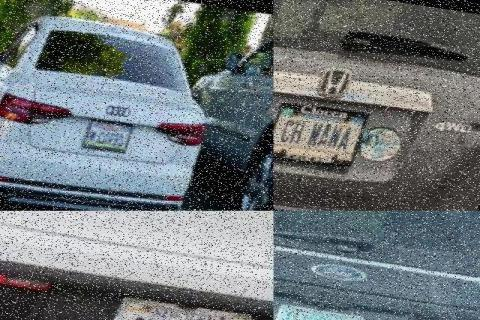LicensePlate: (272, 102, 368, 167), (112, 297, 254, 319), (82, 120, 135, 156), (274, 303, 365, 319)
